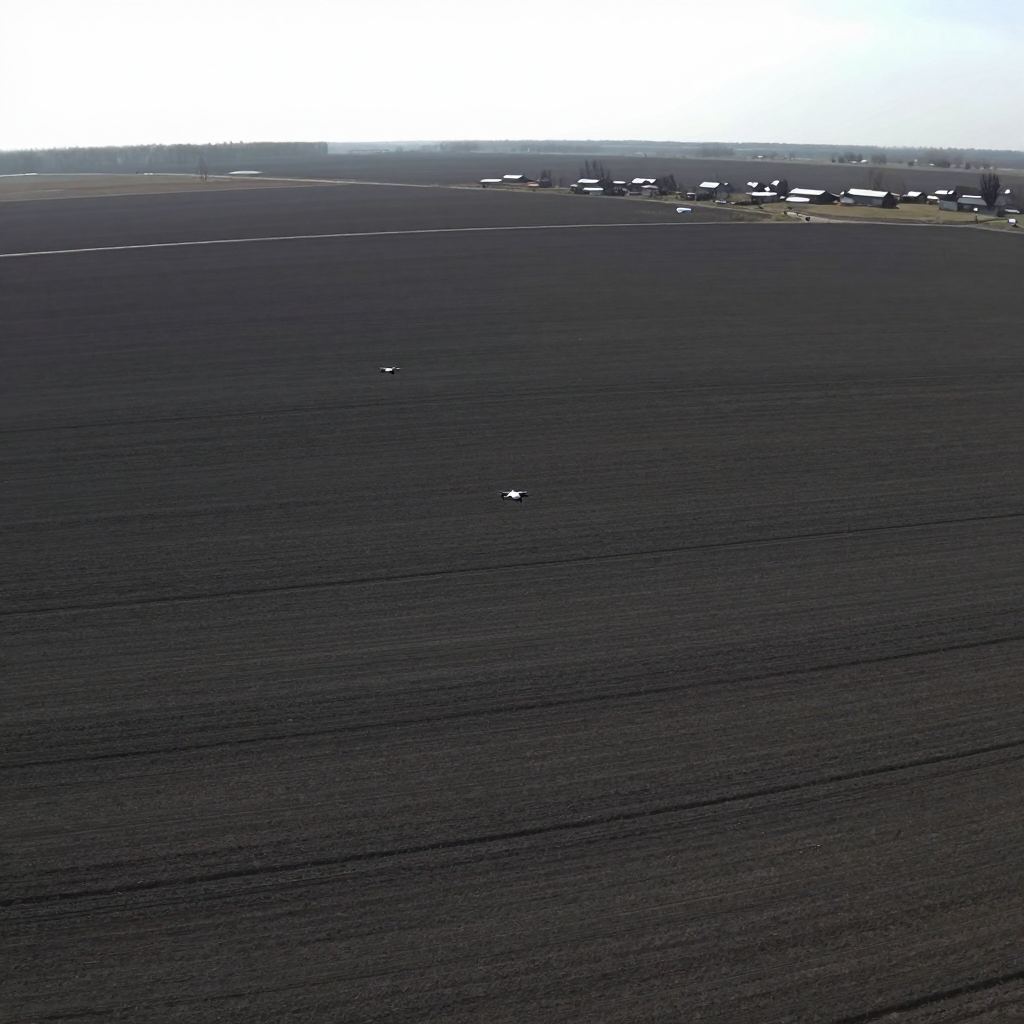drone: (499, 490, 530, 508), (379, 367, 401, 375)
